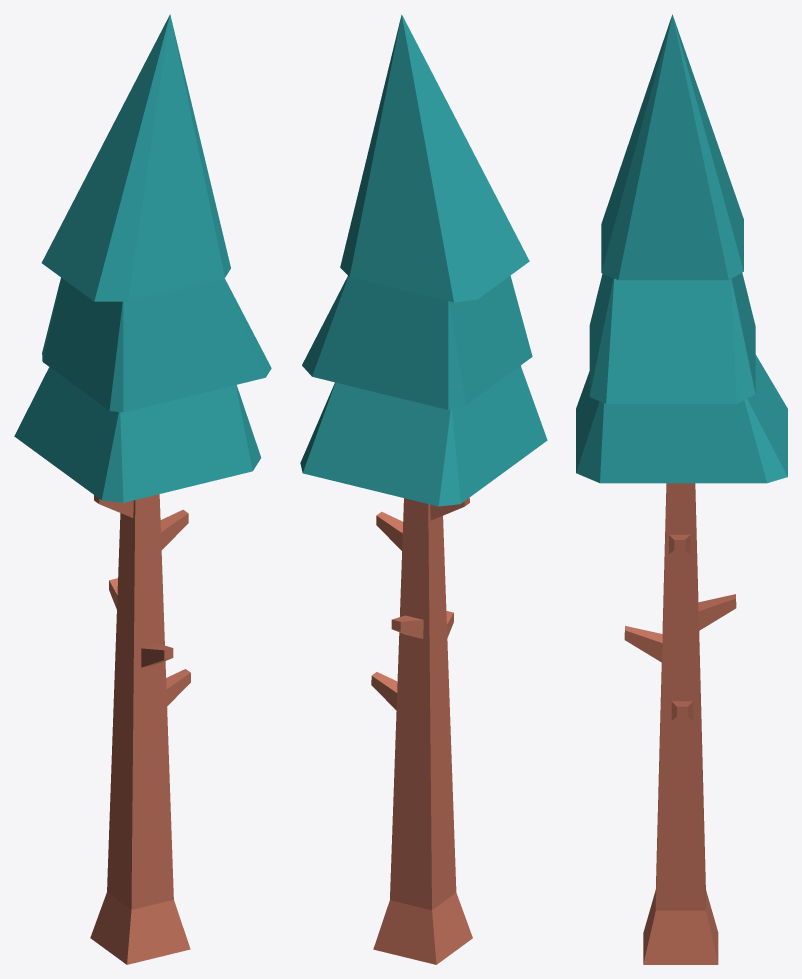
File: tree_pineTallB_detailed.dae
3 views of the same model, side by side, from view 1: azimuth 30°, elevation 25°; view 2: azimuth 150°, elevation 25°; view 3: azimuth 270°, elevation 25° (orthographic). The views are drawn at different scales.
Visible parts, largest first — view 1: tree_pineTallB_detailed; view 2: tree_pineTallB_detailed; view 3: tree_pineTallB_detailed.
Boxes of the visible parts, <box> form: tree_pineTallB_detailed: <box>14,14,271,964</box>; tree_pineTallB_detailed: <box>300,14,547,964</box>; tree_pineTallB_detailed: <box>576,14,787,964</box>.
Bounding box in the file's own units: 0.3863 × 1.93 × 0.392.
